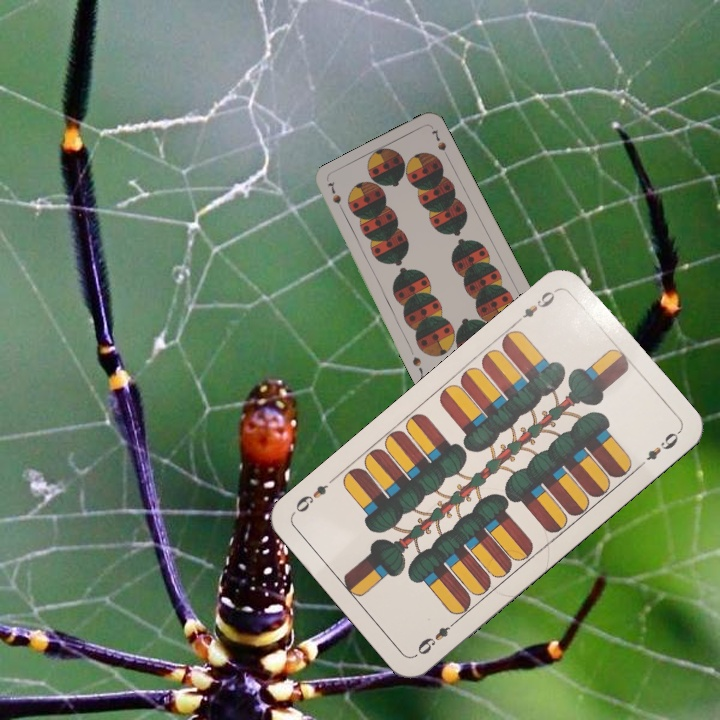E9: (411, 615, 460, 659), (512, 284, 561, 327)
S7: (323, 178, 348, 217)
